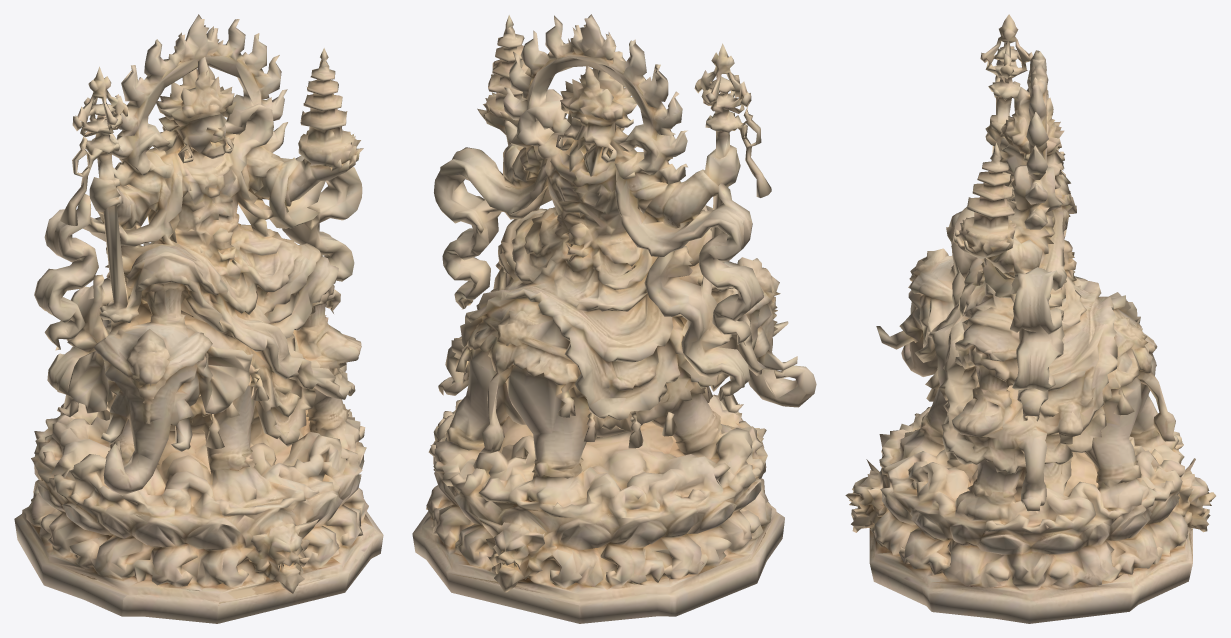
3 views of the same model, side by side, from view 1: azimuth 30°, elevation 25°; view 2: azimuth 150°, elevation 25°; view 3: azimuth 270°, elevation 25° (orthographic). The views are drawn at different scales.
Parts seen in each view (by area): view 1: owner-collection20-03; view 2: owner-collection20-03; view 3: owner-collection20-03.
Boxes of the visible parts, x1=… form: owner-collection20-03: x1=14, y1=14, x2=383, y2=623; owner-collection20-03: x1=412, y1=14, x2=816, y2=623; owner-collection20-03: x1=845, y1=14, x2=1215, y2=623.
Size of the model in its own units: 0.6228 by 0.9976 by 0.6757.
Materials: 1 (1 with a texture image).
